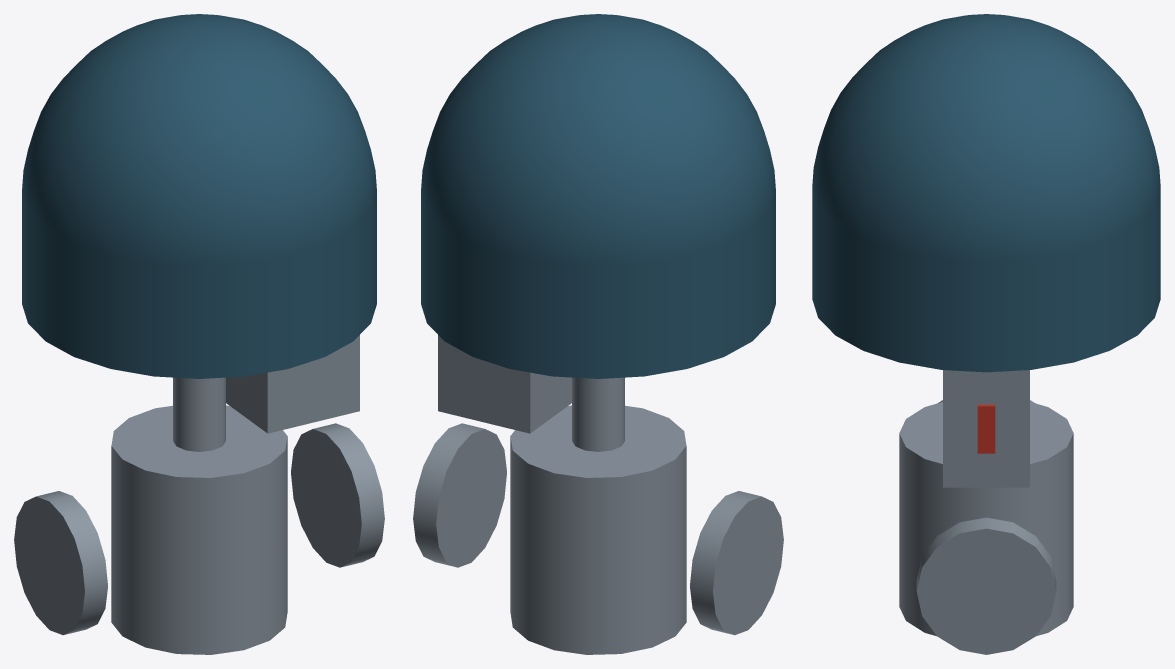
File: control-valve.glb
3 renders of one model, left to right at view 1: azimuth 30°, elevation 25°; view 2: azimuth 150°, elevation 25°; view 3: azimuth 270°, elevation 25°, orthographic.
Parts seen in each view (by area): view 1: object 6, object 5, object 1, object 3, object 2, object 7, object 4; view 2: object 6, object 5, object 1, object 3, object 2, object 7, object 4; view 3: object 6, object 5, object 1, object 3, object 7, indicator.
Boxes of the visible parts, left/top/right/bottom form: object 6: left=22, top=14, right=376, bottom=266; object 5: left=22, top=192, right=376, bottom=378; object 1: left=111, top=405, right=287, bottom=654; object 3: left=291, top=423, right=384, bottom=567; object 2: left=14, top=491, right=107, bottom=635; object 7: left=226, top=335, right=359, bottom=433; object 4: left=173, top=377, right=225, bottom=451; object 6: left=421, top=14, right=775, bottom=266; object 5: left=421, top=192, right=775, bottom=378; object 1: left=510, top=405, right=686, bottom=654; object 3: left=413, top=423, right=506, bottom=567; object 2: left=690, top=491, right=783, bottom=635; object 7: left=438, top=335, right=571, bottom=433; object 4: left=572, top=377, right=624, bottom=451; object 6: left=812, top=14, right=1160, bottom=261; object 5: left=812, top=189, right=1160, bottom=372; object 1: left=899, top=402, right=1073, bottom=636; object 3: left=916, top=517, right=1056, bottom=654; object 7: left=943, top=370, right=1029, bottom=487; indicator: left=977, top=404, right=995, bottom=453.
Size of the model in its own units: 0.4 by 0.73 by 0.4.
